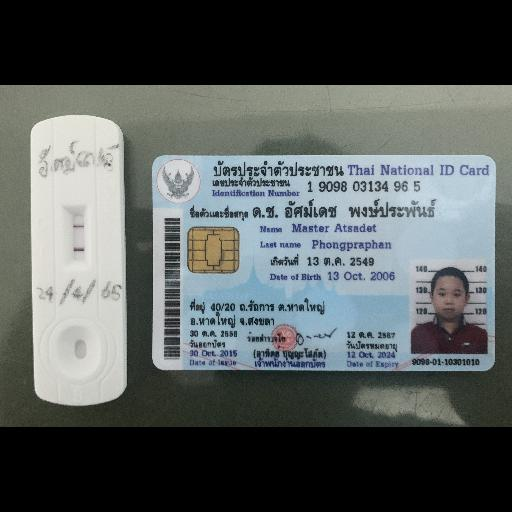Pos: (28, 114, 126, 402)
